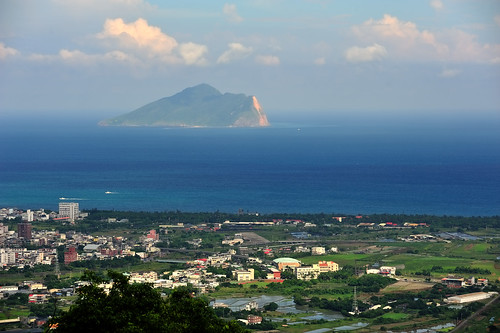turtleIsland: (96, 83, 269, 127)
